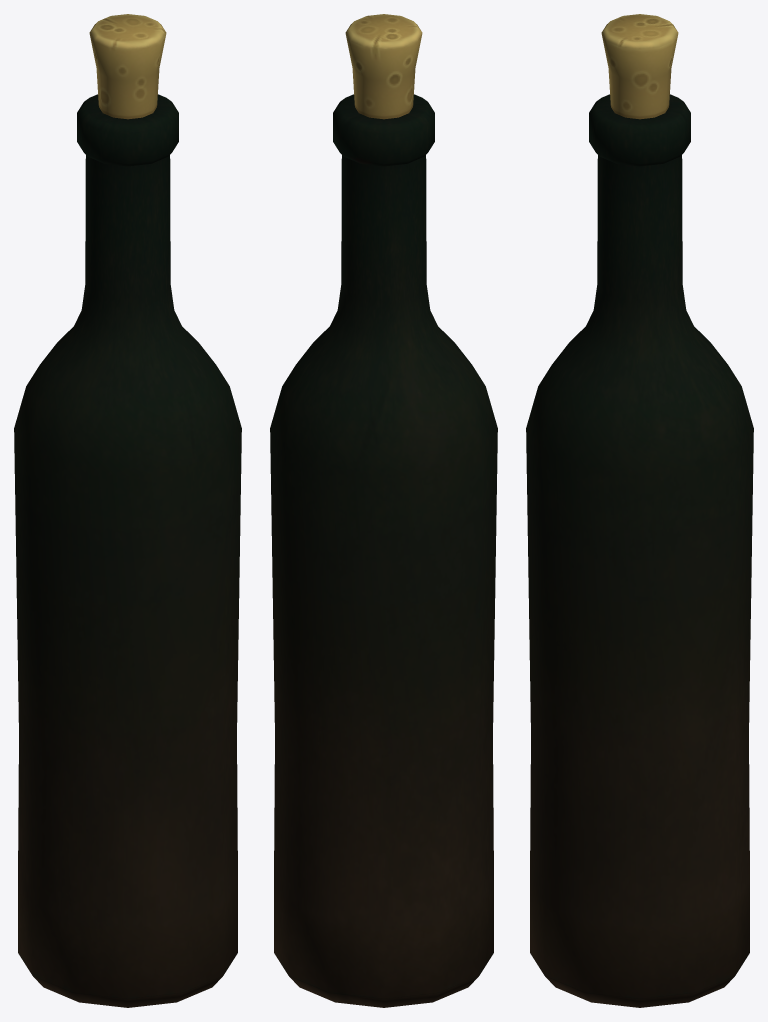
File: SM_Bottle_2.fbx
3 views of the same model, side by side, from view 1: azimuth 30°, elevation 25°; view 2: azimuth 150°, elevation 25°; view 3: azimuth 270°, elevation 25° (orthographic).
Parts seen in each view (by area): view 1: SM_Bottle_2_LOD0; view 2: SM_Bottle_2_LOD0; view 3: SM_Bottle_2_LOD0.
Part boxes in pixels (left/top/right/bottom): SM_Bottle_2_LOD0: left=14, top=14, right=241, bottom=1007; SM_Bottle_2_LOD0: left=270, top=14, right=497, bottom=1007; SM_Bottle_2_LOD0: left=526, top=14, right=753, bottom=1007.
Bounding box in the file's own units: 12.66 × 12.66 × 57.6.
Materials: 1 (1 with a texture image).
